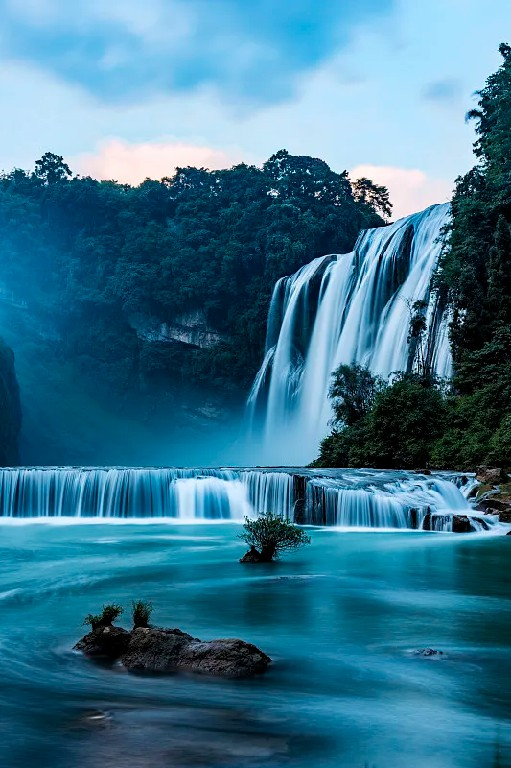Huangguoshu: (249, 201, 453, 466)
